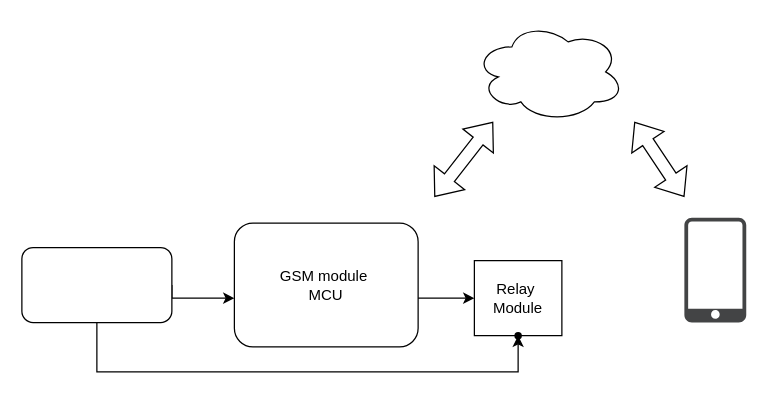
This 768x404 diagram has some shape labels left out. The shapes that lost their labels are listed below. From the top down, each one's centre as x and y in pixels, then its label:
At [548,71]: "Cloud".
At [96,284]: "power supply".
